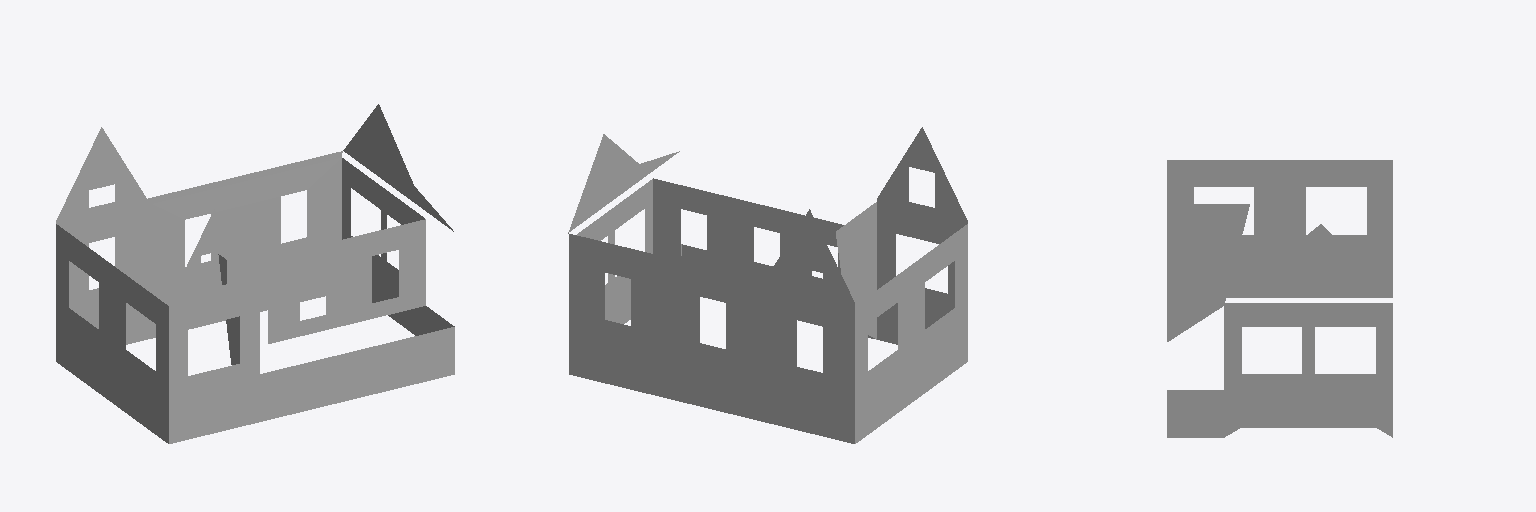
File: wall.obj
The picture shows the model from 3 angles: view 1: azimuth 30°, elevation 25°; view 2: azimuth 150°, elevation 25°; view 3: azimuth 270°, elevation 25°; orthographic projection.
Parts seen in each view (by area): view 1: Mesh_5; view 2: Mesh_5; view 3: Mesh_5.
Part boxes in pixels (x1,y1,x2,y2): Mesh_5: (56,104,454,443); Mesh_5: (568,127,967,443); Mesh_5: (1167,160,1392,437).
Bounding box in the file's own units: 23.84 × 17.81 × 16.2.